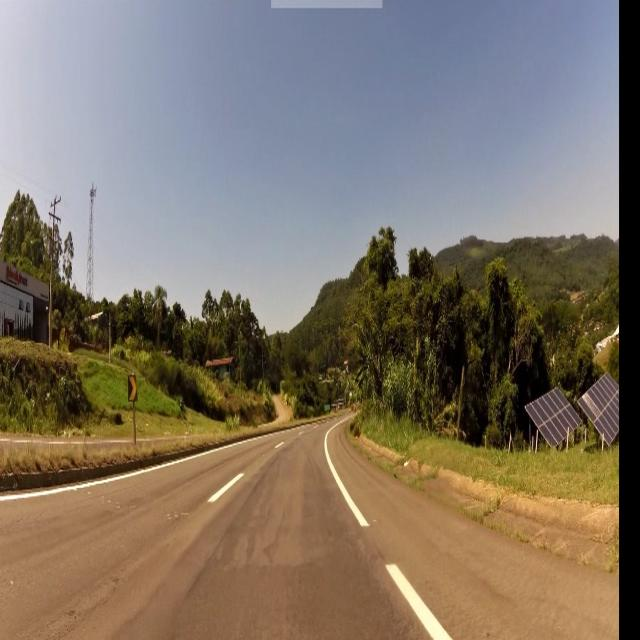Del: (128, 377, 138, 403)
